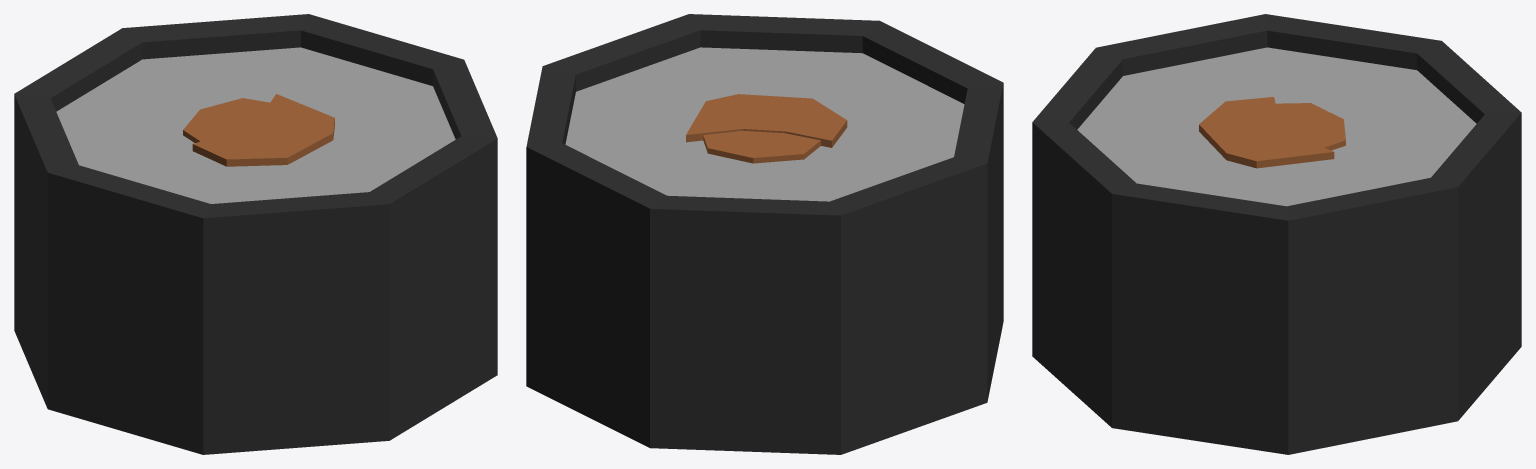
Rendered from quaternius-ultimate-food-sushi-roll-1.glb.
3 renders of one model, left to right at view 1: azimuth 30°, elevation 25°; view 2: azimuth 150°, elevation 25°; view 3: azimuth 270°, elevation 25°, orthographic. The views are drawn at different scales.
Visible parts, largest first — view 1: Sushi_Roll1; view 2: Sushi_Roll1; view 3: Sushi_Roll1.
Boxes of the visible parts, left/top/right/bottom form: Sushi_Roll1: left=14, top=14, right=497, bottom=454; Sushi_Roll1: left=526, top=14, right=1003, bottom=454; Sushi_Roll1: left=1032, top=14, right=1521, bottom=454.
Size of the model in its own units: 0.2923 by 0.1544 by 0.2923.
